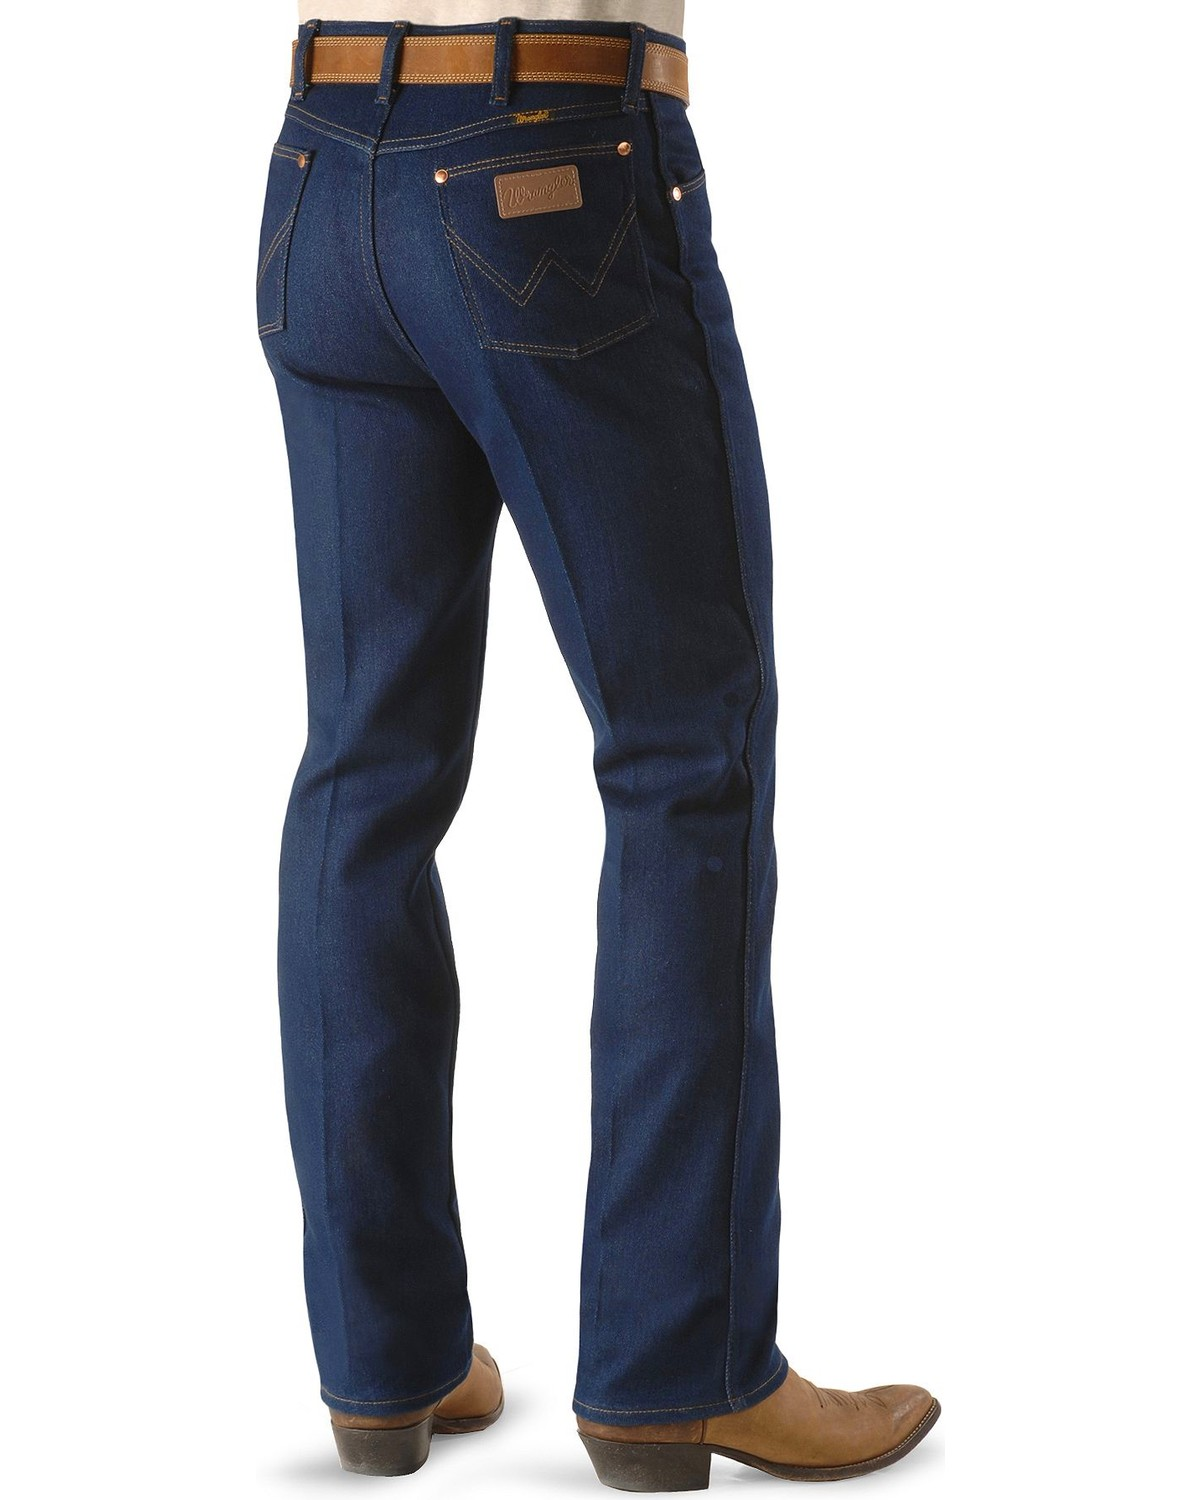Jeans: (242, 20, 806, 1413)
